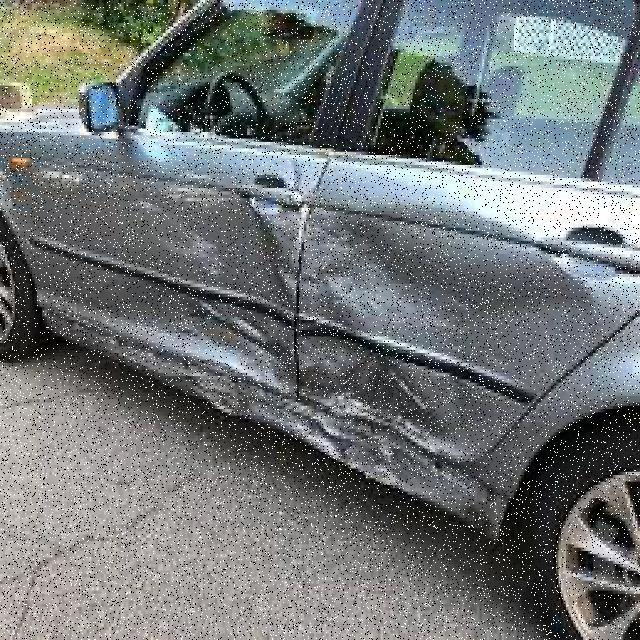RunningBoard-Dent: (282, 406, 447, 488), (109, 352, 267, 422)
doorouter-dent: (300, 162, 567, 400), (89, 148, 299, 353)
